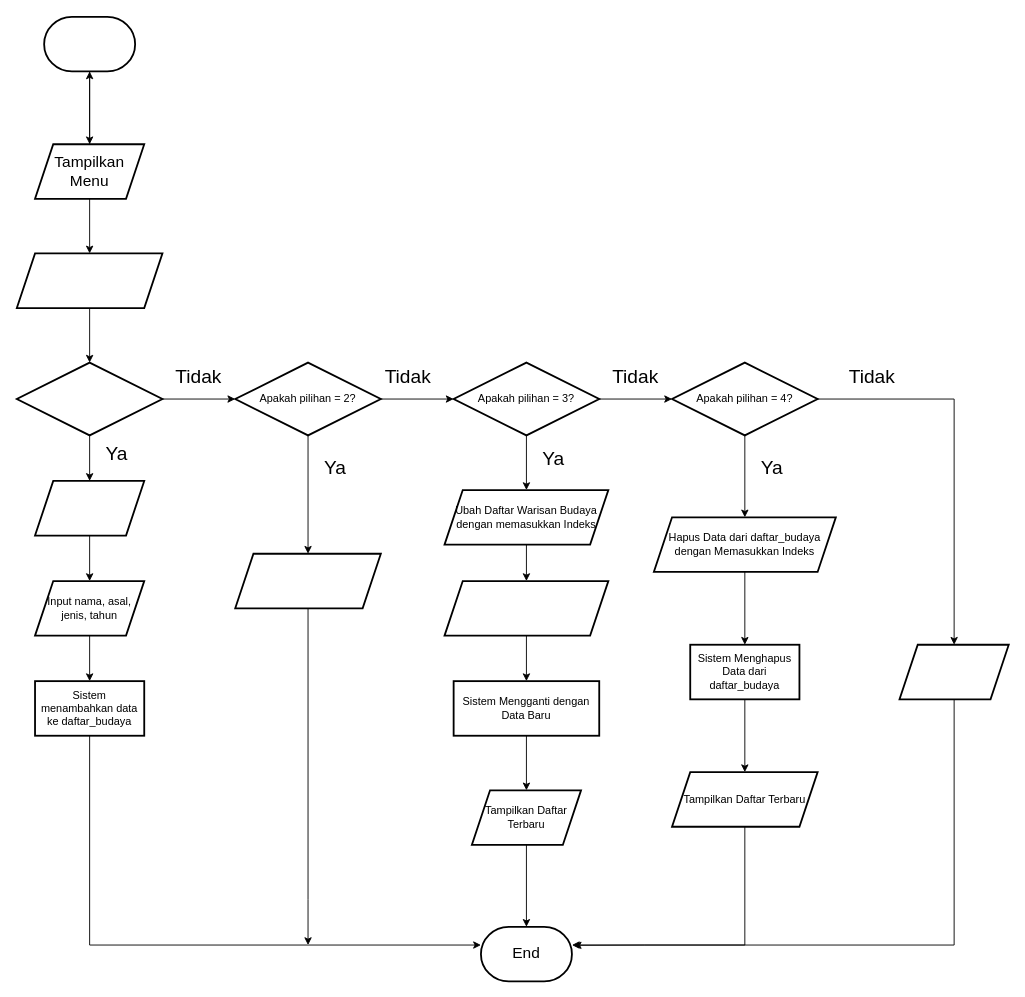
The diagram is 1025 pixels wide and 997 high, and some of its shapes have lost their labels. The box of each missing label's shape, as (x1, y1, x2, y2) in pixels:
Apakah pilihan = 1?: (15, 361, 163, 436)
Input data baru = nama. asal, jenis,tahun: (443, 580, 609, 636)
Input pilihan menu = 1,2,3,4: (15, 252, 163, 308)
Start: (43, 15, 136, 72)
Tambah Daftar Warisan Budaya: (34, 480, 145, 536)
Tampilkan Daftar Warisan Buday a: (234, 552, 381, 609)
Tampilkan Pilihan Tidak Valid: (898, 643, 1009, 700)
